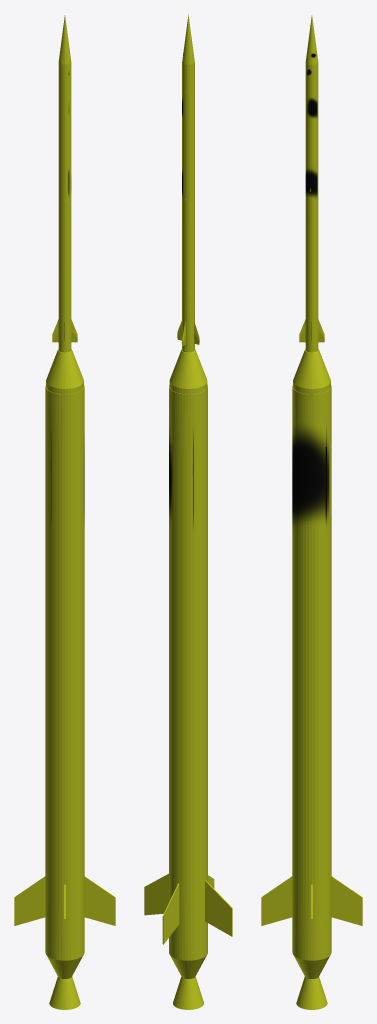
Rendered from DARTvomit.glb.
The picture shows the model from 3 angles, left to right: view 1: azimuth 90°, elevation 25°; view 2: azimuth 150°, elevation 25°; view 3: azimuth 270°, elevation 25°; orthographic projection.
Parts seen in each view (by area): view 1: DART; view 2: DART; view 3: DART.
Part boxes in pixels (left/top/right/bottom): DART: left=14, top=15, right=115, bottom=1009; DART: left=144, top=14, right=232, bottom=1009; DART: left=261, top=15, right=362, bottom=1009.
Size of the model in its own units: 0.161 by 1.73 by 0.161.
Materials: 1 (1 with a texture image).
